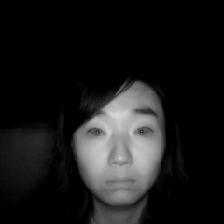sad: (59, 63, 182, 212)
